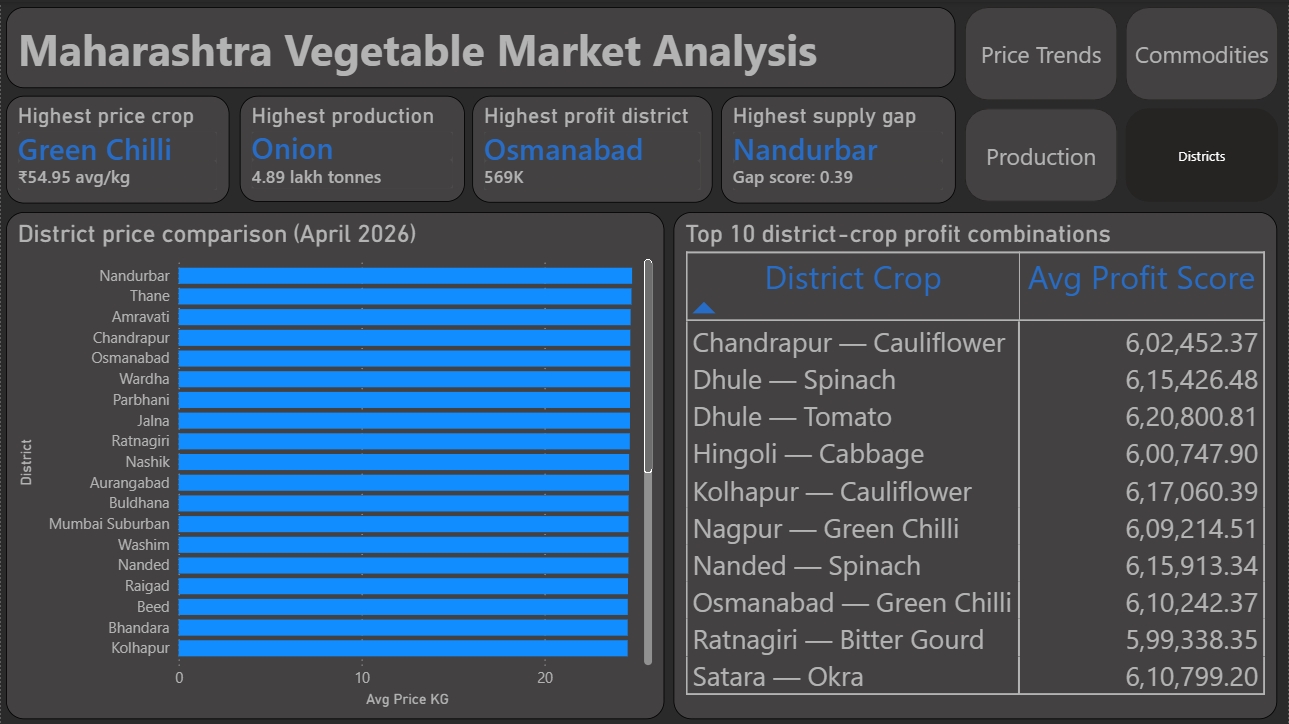

Layout of this report page (visuals, bound fields, positions):
{"tool":"powerbi","page":{"name":"Page 1","canvas":[1280,720],"ordinal":0},"visuals":[{"type":"cardVisual","title":"Highest price crop","fields":{"Data":["mandi_data_cleaned.Highest Price Crop","mandi_data_cleaned.Highest Price Display"]},"box":[5.6,93,222.6,107.1],"z":0},{"type":"clusteredBarChart","title":"District price comparison (April 2026)","fields":{"Y":["mandi_data_cleaned.Avg Price KG"],"Category":["mandi_data_cleaned.district"]},"box":[5.6,208.7,655,504.7],"z":0,"group":"g1"},{"type":"pivotTable","title":"Top 10 district-crop profit combinations","fields":{"Rows":["mandi_data_cleaned.District Crop"],"Values":["mandi_data_cleaned.Avg Profit Score"]},"box":[670.1,209.2,601,504.6],"z":1000,"group":"g1"},{"type":"cardVisual","title":"Highest production","fields":{"Data":["mandi_data_cleaned.Highest Production Crop","mandi_data_cleaned.Highest Production Display"]},"box":[237,93,224,105.7],"z":3000},{"type":"cardVisual","title":"Highest supply gap","fields":{"Data":["mandi_data_cleaned.Highest Supply Gap District","mandi_data_cleaned.Supply Gap Display"]},"box":[716,93,233.9,107],"z":4000},{"type":"cardVisual","title":"Highest profit district","fields":{"Data":["mandi_data_cleaned.Highest Profit District","mandi_data_cleaned.Profit Display"]},"box":[469,93,239.3,106],"z":5000},{"type":"textbox","box":[5.6,5.6,944.7,80.7],"z":6000},{"type":"bookmarkNavigator","box":[958.6,5.6,313,194.8],"z":7000},{"type":"group","id":"g1","title":"Group 1","box":[5.6,208.7,1265.5,505],"z":8000}]}

Visuals, with their boxes in screenshot pixels (x1, y1, x2, y2), scaled from the page's 1280x720 canvas onto the 1289x724 screenshot:
"Highest price crop" cardVisual: rect(6, 94, 230, 201)
"District price comparison (April 2026)" clusteredBarChart: rect(6, 210, 665, 717)
"Top 10 district-crop profit combinations" pivotTable: rect(675, 210, 1280, 718)
"Highest production" cardVisual: rect(239, 94, 464, 200)
"Highest supply gap" cardVisual: rect(721, 94, 957, 201)
"Highest profit district" cardVisual: rect(472, 94, 713, 200)
textbox: rect(6, 6, 957, 87)
bookmarkNavigator: rect(965, 6, 1281, 202)
"Group 1" group: rect(6, 210, 1280, 718)
